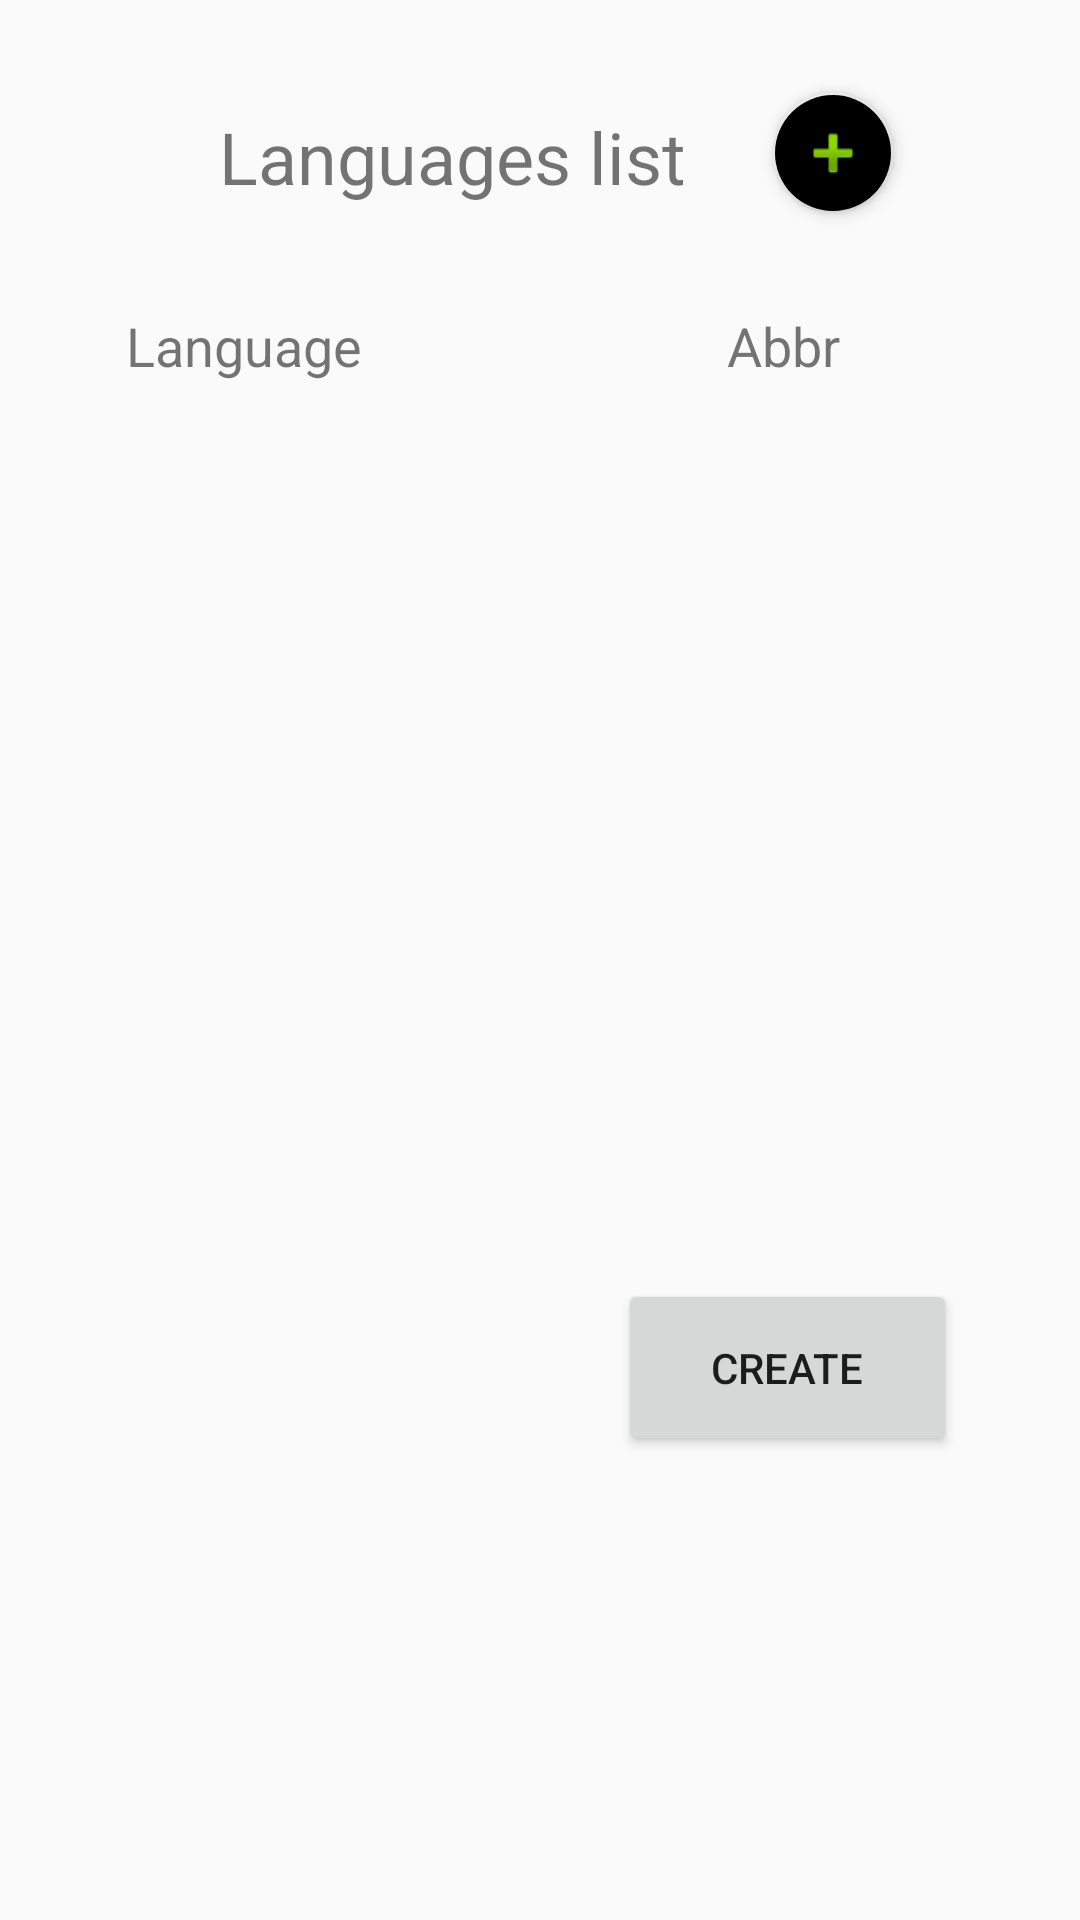

Named icons in this screenshot (1080*1920) and their bounding boxes, (left=x1, top=y1, right=x2, bottom=y2):
add: (left=775, top=93, right=893, bottom=213)
